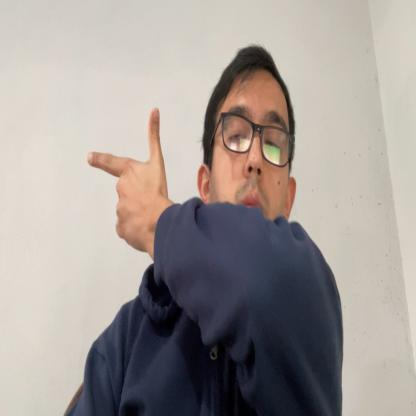G: (87, 107, 160, 255)
